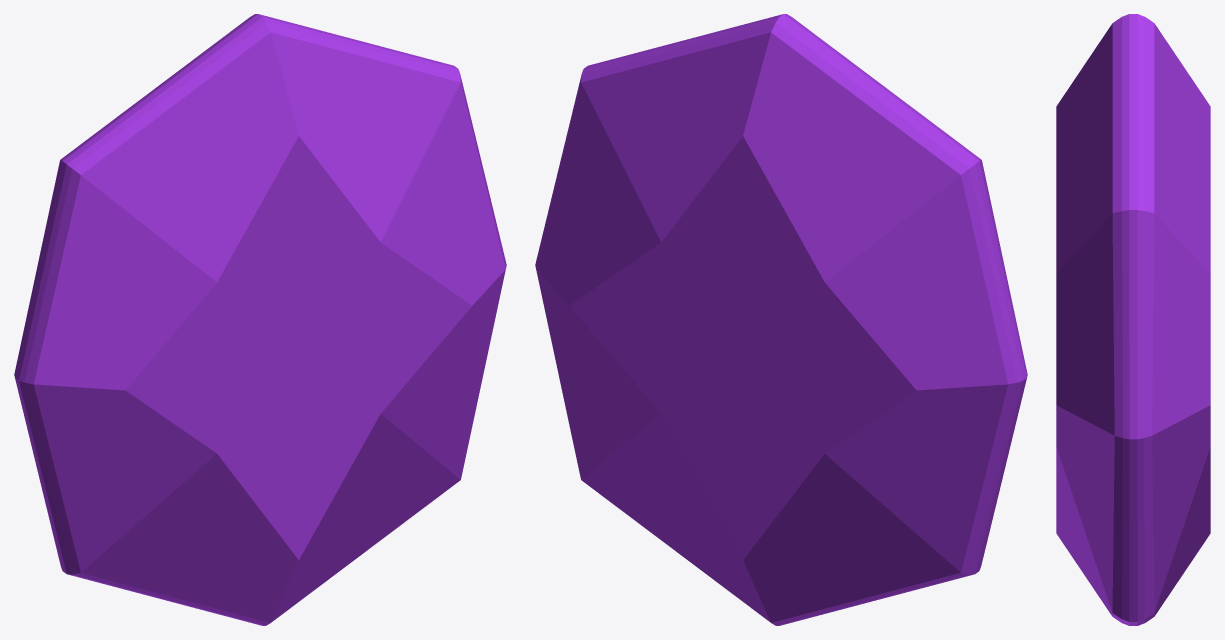
Rendered from PowerGemJungle.fbx.
3 views of the same model, side by side, from view 1: azimuth 30°, elevation 25°; view 2: azimuth 150°, elevation 25°; view 3: azimuth 270°, elevation 25° (orthographic).
Parts seen in each view (by area): view 1: Cube; view 2: Cube; view 3: Cube.
Part boxes in pixels (x1,y1,x2,y2): Cube: (14, 14, 506, 625); Cube: (535, 14, 1027, 625); Cube: (1056, 14, 1210, 625).
Size of the model in its own units: 206 by 246 by 56.23.
